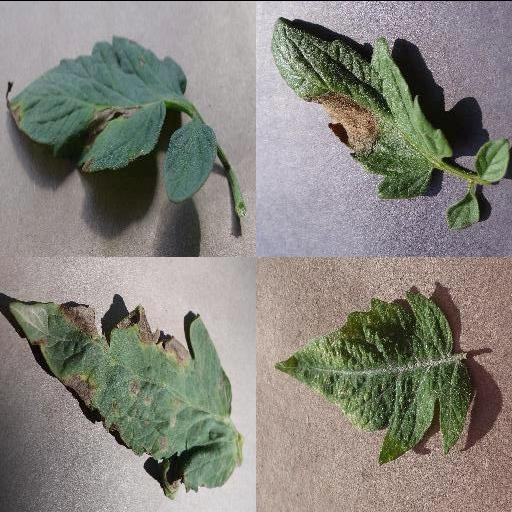Early Blight: (9, 297, 243, 498), (7, 33, 185, 173)
Healthy: (163, 121, 219, 201)
Late Blight: (272, 16, 454, 196)
Spider Mites: (273, 284, 473, 466)
